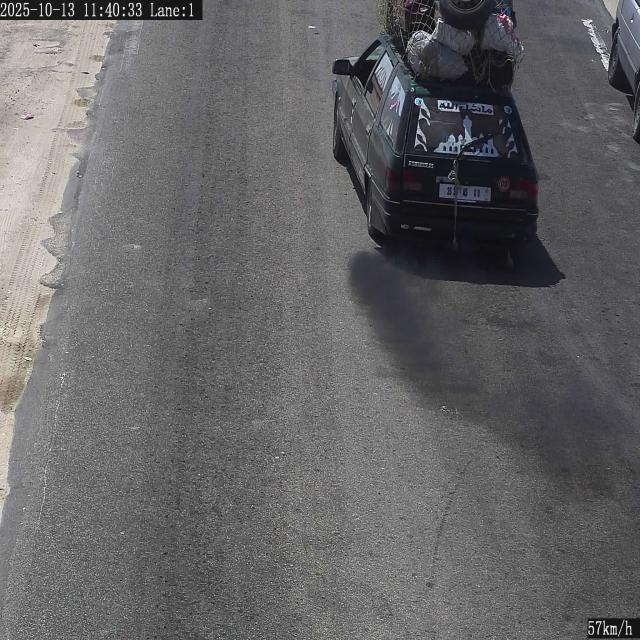BUS: (438, 184, 491, 202)
